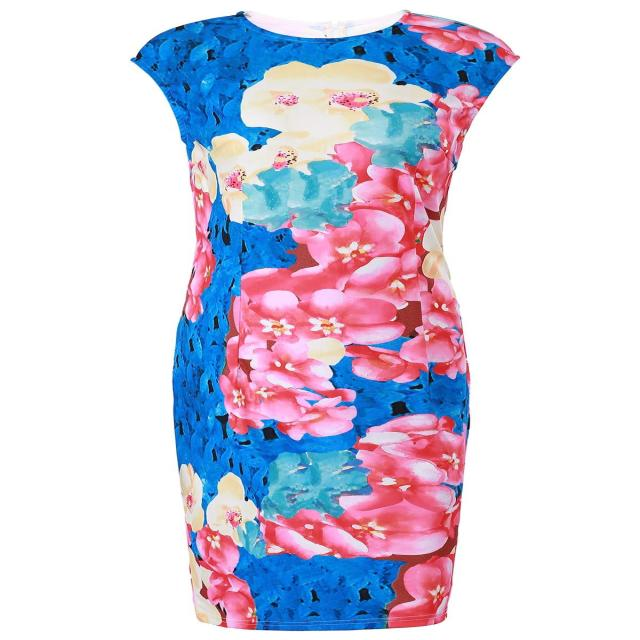Dress: (126, 9, 520, 631)
